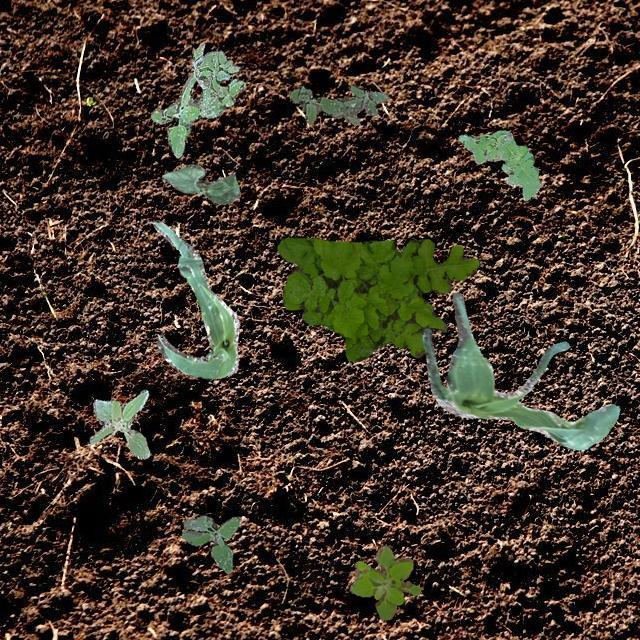crop: (422, 292, 618, 449), (148, 220, 238, 378), (160, 164, 238, 204)
weed: (276, 237, 478, 361), (150, 72, 244, 156), (458, 130, 540, 200), (348, 544, 419, 618), (88, 388, 148, 458), (288, 84, 386, 124), (178, 514, 240, 572), (190, 42, 238, 104)
